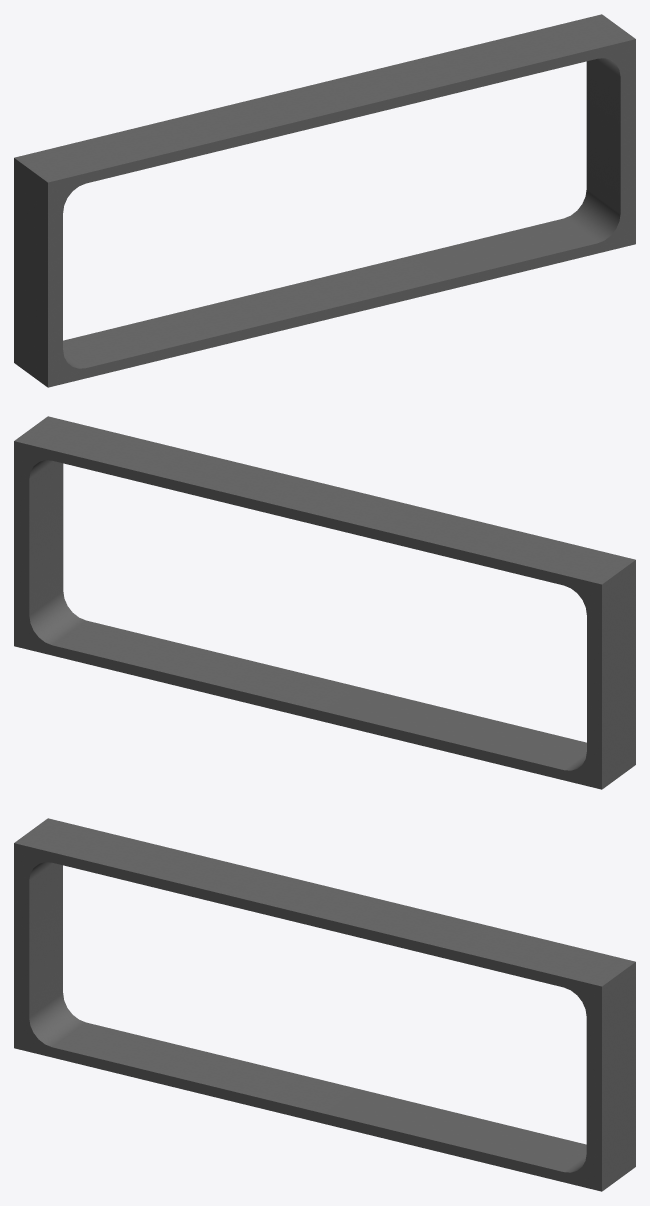
Rendered from Window_Encasing.fbx.
3 renders of one model, top to bottom at view 1: azimuth 30°, elevation 25°; view 2: azimuth 150°, elevation 25°; view 3: azimuth 330°, elevation 25°, orthographic.
Parts seen in each view (by area): view 1: Corridor_Window_Encasing; view 2: Corridor_Window_Encasing; view 3: Corridor_Window_Encasing.
Boxes of the visible parts, x1,y1,x2,y2 form: Corridor_Window_Encasing: (14, 14, 635, 387); Corridor_Window_Encasing: (14, 416, 635, 789); Corridor_Window_Encasing: (14, 818, 635, 1191).
Bounding box in the file's own units: 600 × 200 × 60.
Materials: 1 (1 with a texture image).
